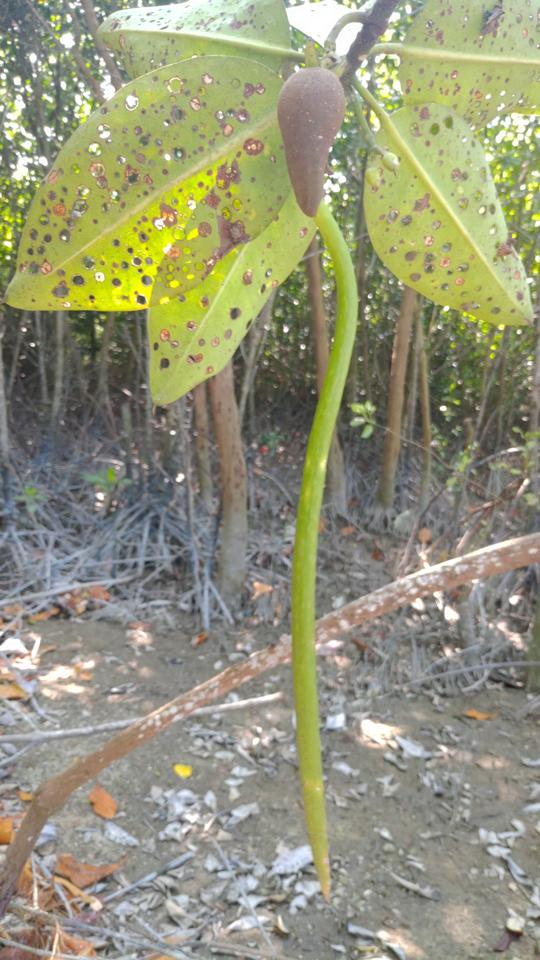mentah: (254, 37, 379, 912)
